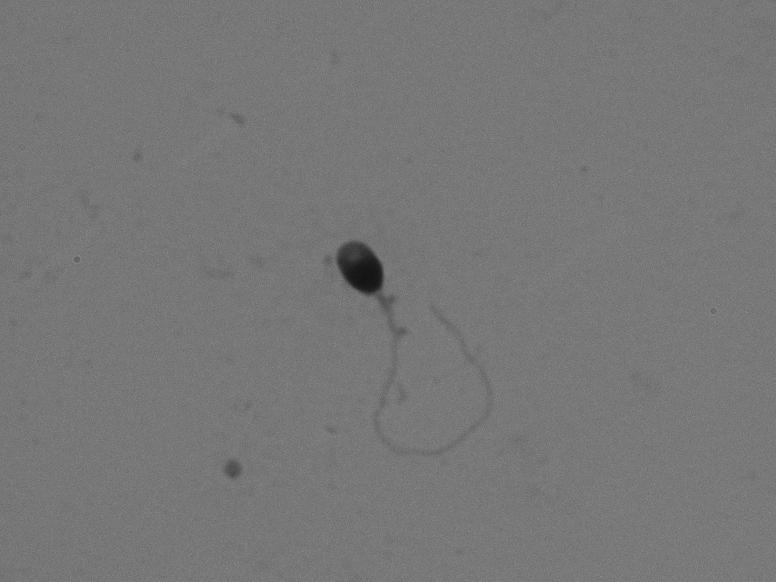Abnormal: (311, 214, 538, 479)
